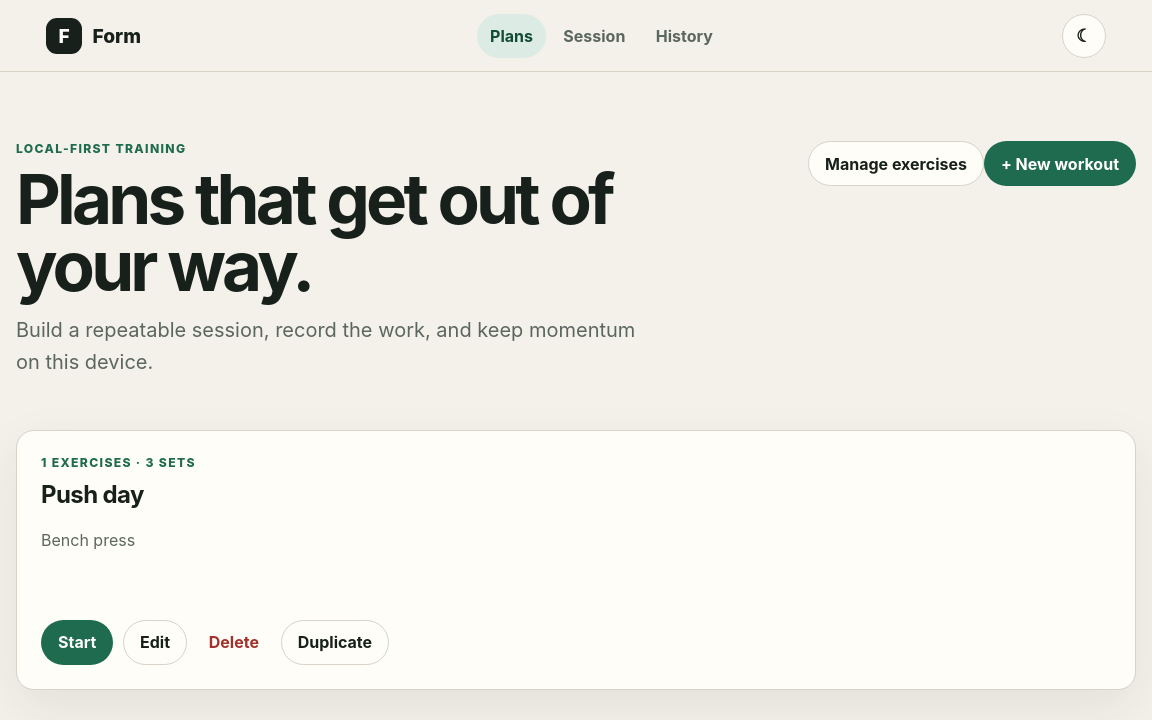
Plans — US1: Plan a workout › duplicates a workout and shows rename input
The image size is (1152, 720).
Check: the heading "Push day" is shown, box 41,480 -> 144,509
Click the button "Duplicate" at coordinates (335, 642), box 281,620 -> 389,665
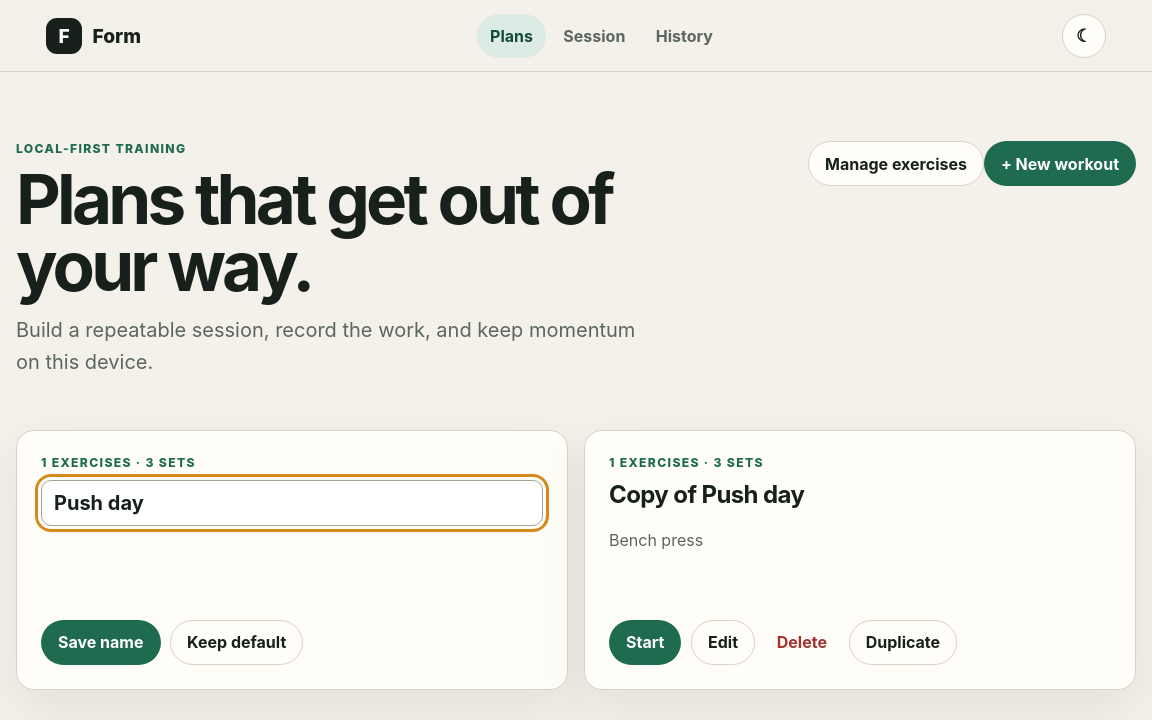
Check: the heading "Copy of Push day" is shown, box 609,480 -> 804,509
